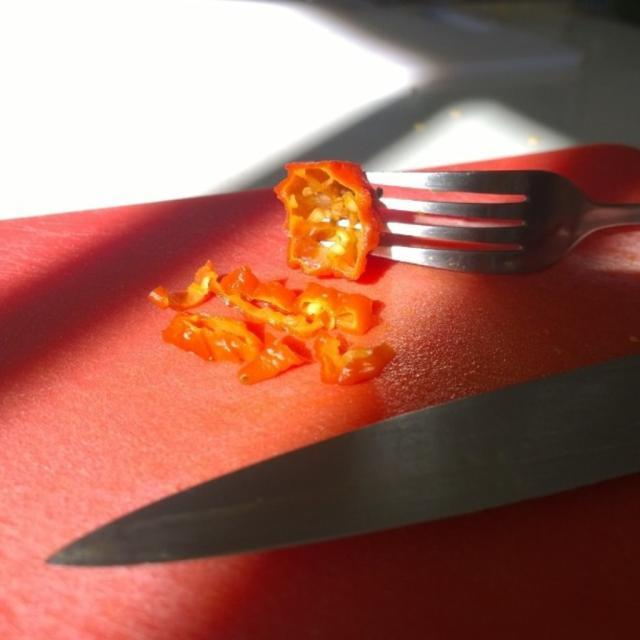Knife: (42, 346, 640, 563)
